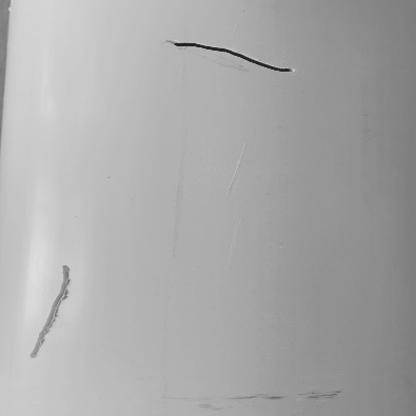fengxi: (169, 38, 296, 76)
sunshang: (25, 265, 73, 360)
